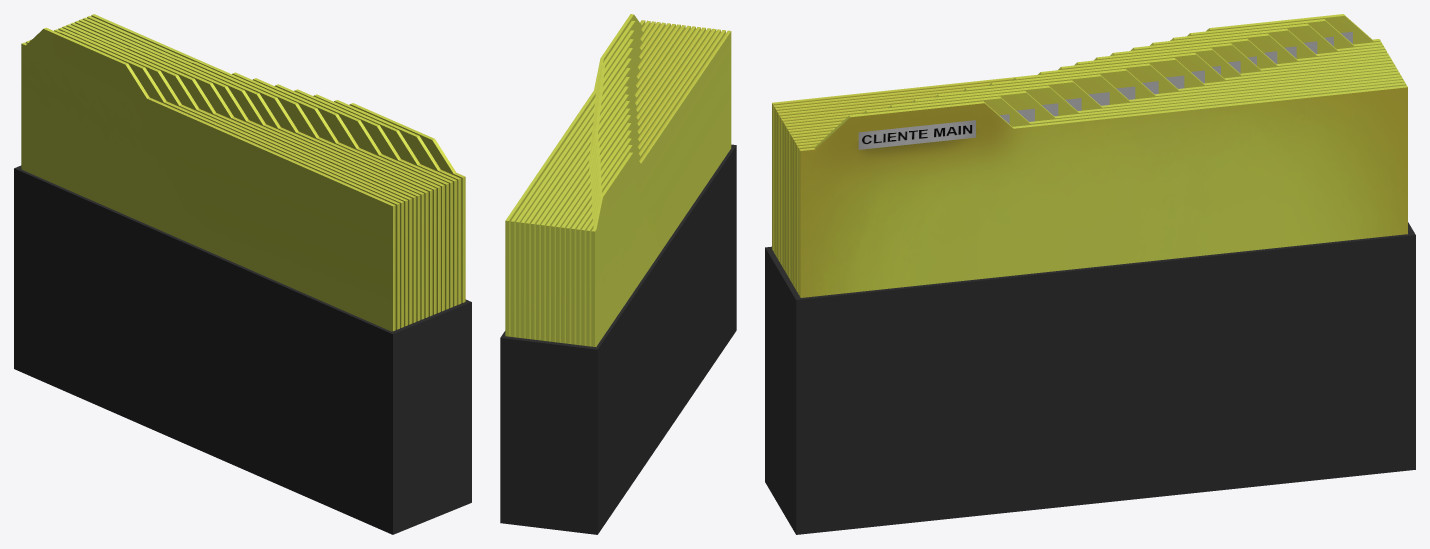
Rendered from NewWebClienti3.gltf.
The picture shows the model from 3 angles, left to right: view 1: azimuth 30°, elevation 25°; view 2: azimuth 150°, elevation 25°; view 3: azimuth 270°, elevation 25°; orthographic projection. The views are drawn at different scales.
Visible parts, largest first — view 1: Contenitore; view 2: Contenitore; view 3: Contenitore.
Boxes of the visible parts, <box> form: Contenitore: <box>14,14,471,534</box>; Contenitore: <box>500,14,736,534</box>; Contenitore: <box>765,14,1415,534</box>.
Bounding box in the file's own units: 0.3948 × 0.6401 × 0.9211.
Materials: 3 (3 with a texture image).
